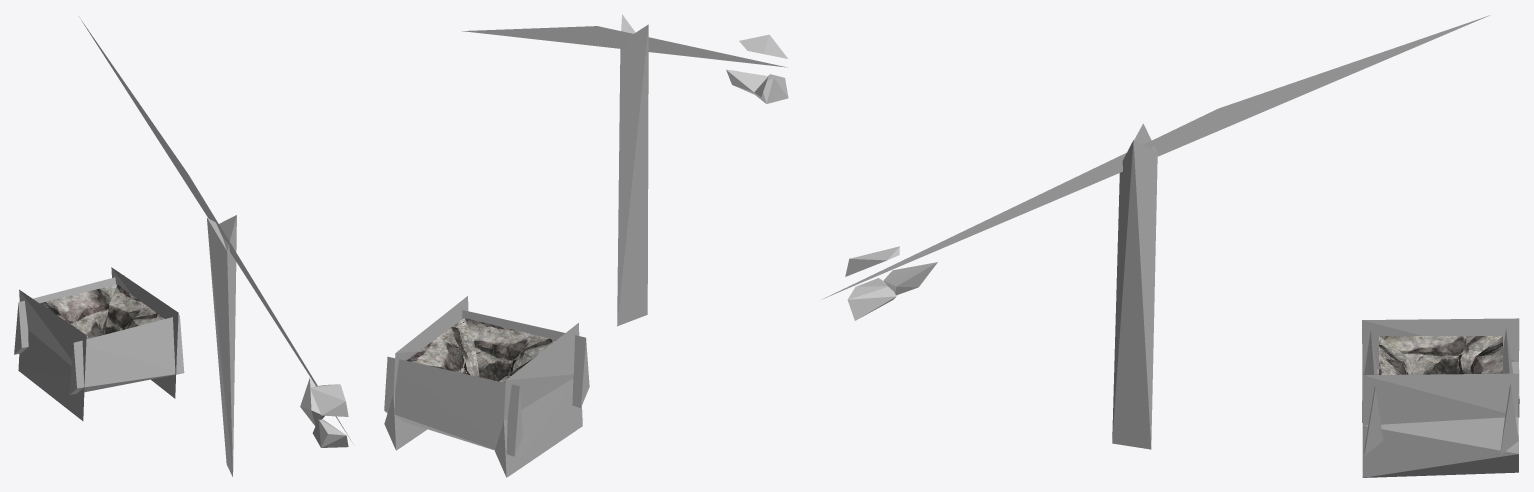
File: Well_LOD4.fbx
3 views of the same model, side by side, from view 1: azimuth 30°, elevation 25°; view 2: azimuth 150°, elevation 25°; view 3: azimuth 270°, elevation 25° (orthographic). The views are drawn at different scales.
Parts seen in each view (by area): view 1: Wood, Stone, General; view 2: Wood, Stone, General; view 3: Wood, Stone, General.
Part boxes in pixels (left/top/right/bottom): Wood: left=14, top=17, right=351, bottom=476; Stone: left=40, top=284, right=164, bottom=339; General: left=300, top=378, right=348, bottom=447; Wood: left=384, top=14, right=787, bottom=477; Stone: left=406, top=318, right=555, bottom=382; General: left=726, top=34, right=788, bottom=103; Wood: left=821, top=15, right=1519, bottom=477; Stone: left=1379, top=336, right=1502, bottom=374; General: left=845, top=246, right=937, bottom=320.
Bounding box in the file's own units: 195 × 892 × 613.
